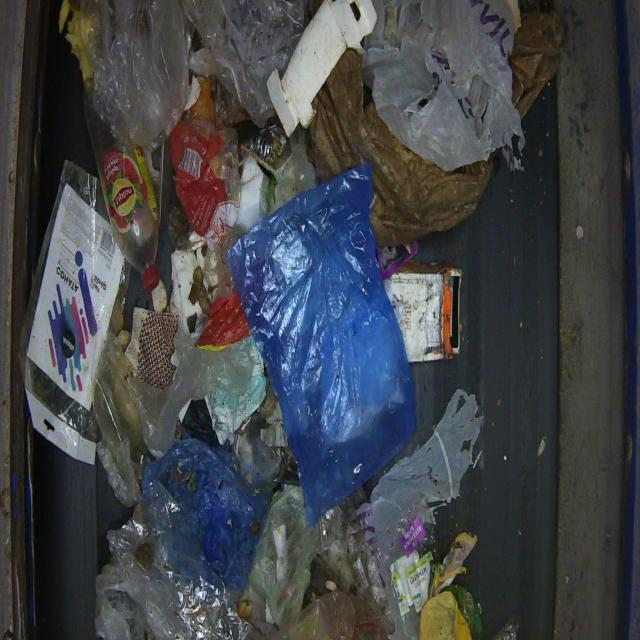E-waste: (224, 160, 418, 528)
other-trash: (32, 0, 535, 639)
trashbin: (23, 357, 101, 638)
